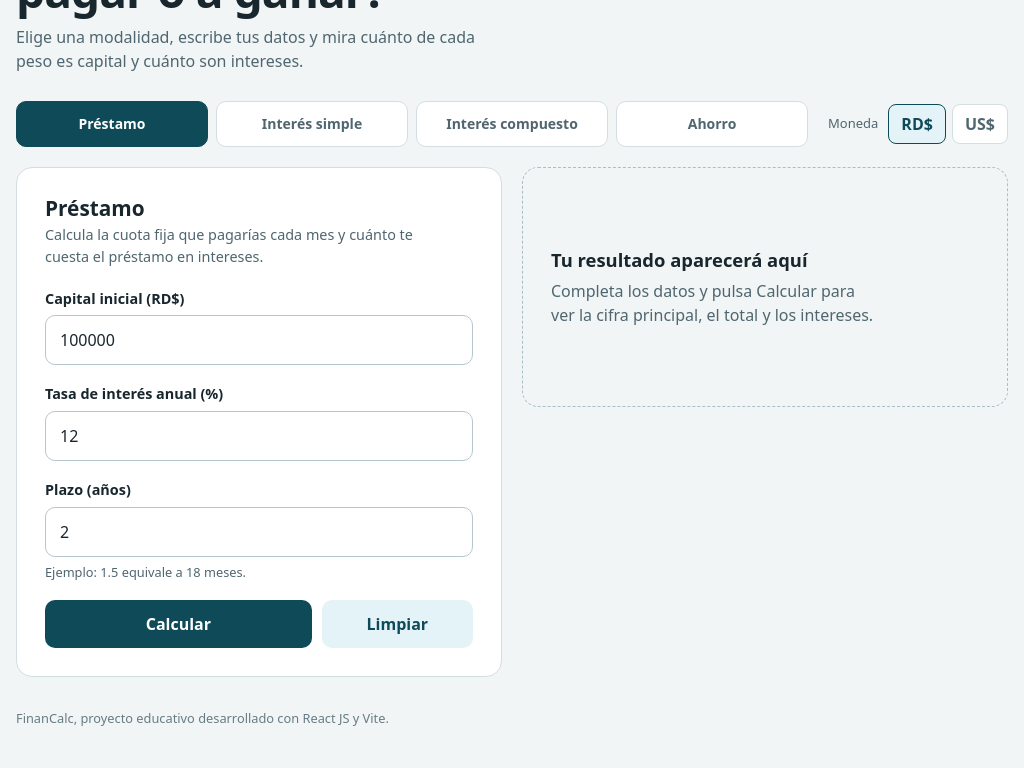
FinanCalc › Borrar historial vacía la lista
(page scrolled)
Click the button "Calcular": (178,624) [45,600,312,648]
(page scrolled)
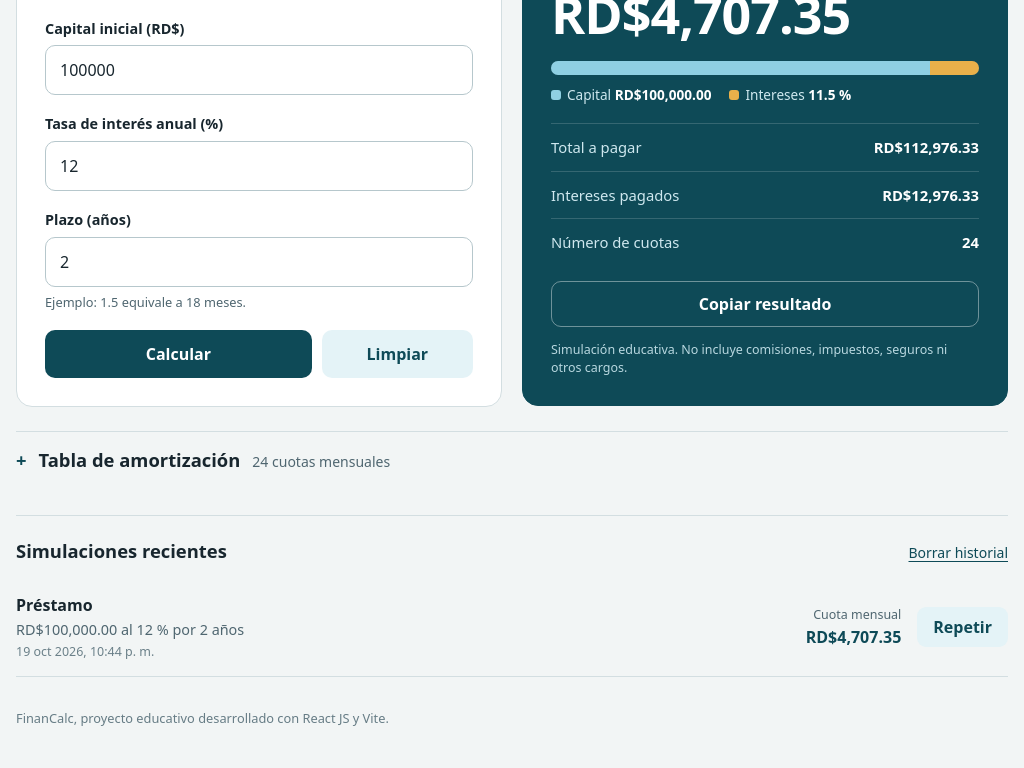
Click the button "Borrar historial": (958,553) [908,534,1008,571]
(page scrolled)
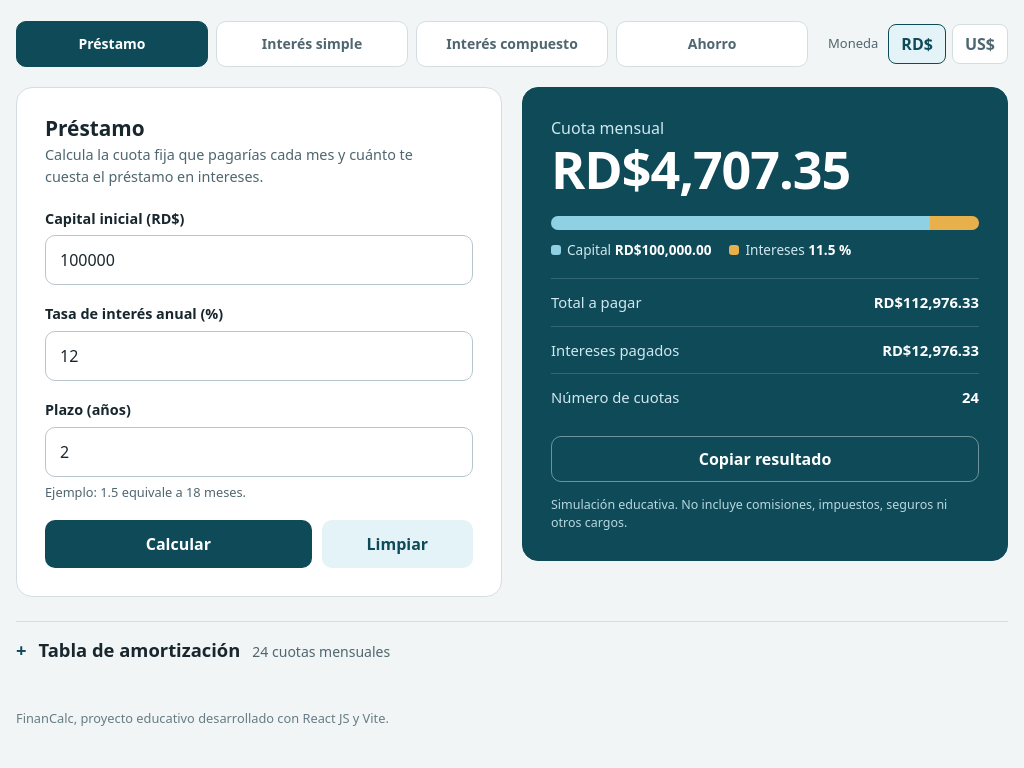
Now the heading "Simulaciones recientes" is gone
